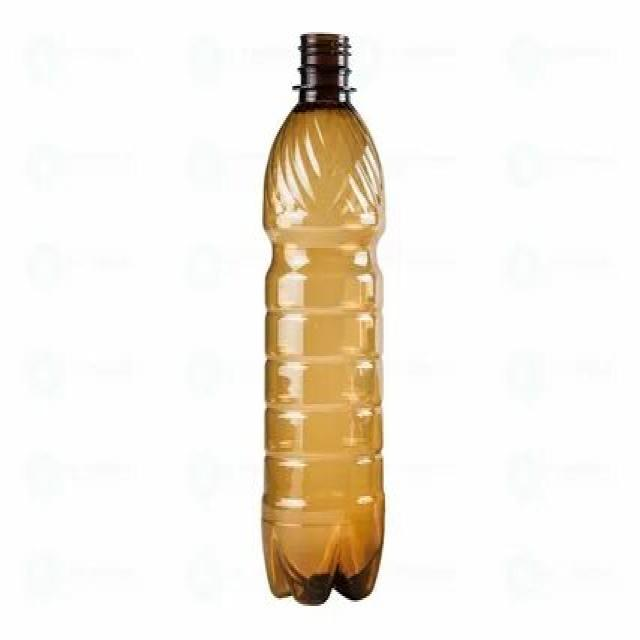brown: (262, 32, 385, 603)
